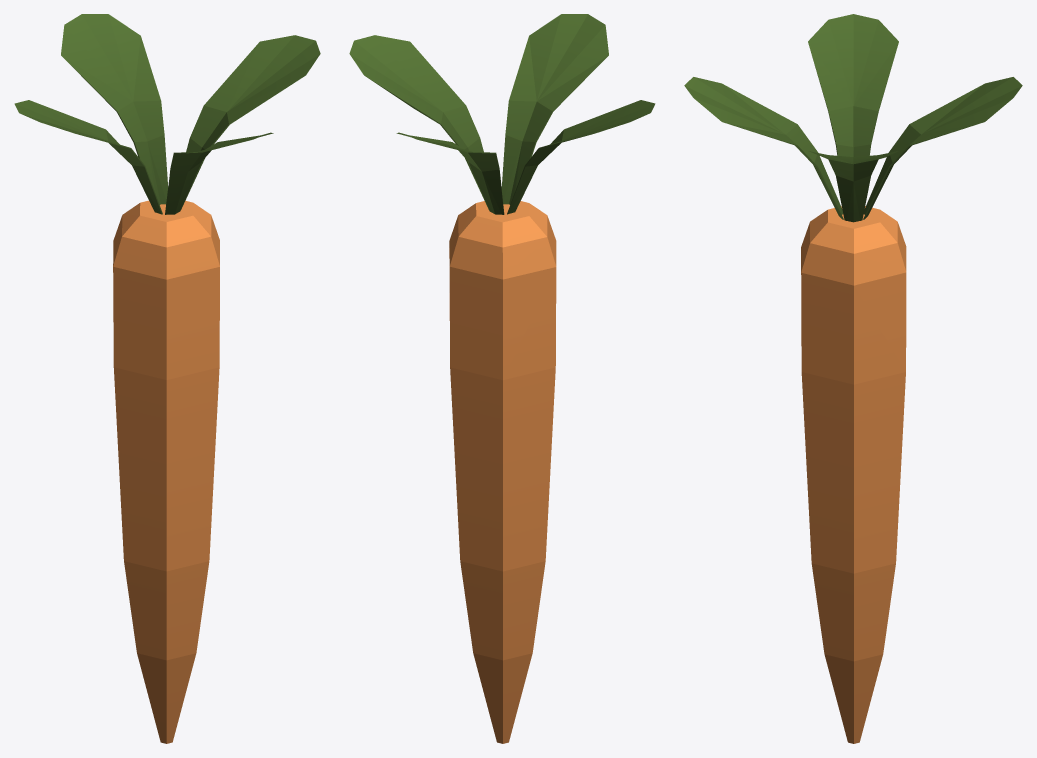
The model's file is Crop_Carrot_01.obj.
3 views of the same model, side by side, from view 1: azimuth 30°, elevation 25°; view 2: azimuth 150°, elevation 25°; view 3: azimuth 270°, elevation 25° (orthographic).
Visible parts, largest first — view 1: Crop_Carrot_01; view 2: Crop_Carrot_01; view 3: Crop_Carrot_01.
Boxes of the visible parts, x1=… form: Crop_Carrot_01: x1=14, y1=14, x2=320, y2=743; Crop_Carrot_01: x1=349, y1=14, x2=655, y2=743; Crop_Carrot_01: x1=684, y1=14, x2=1022, y2=743.
Bounding box in the file's own units: 0.2646 × 0.5653 × 0.2646.
Materials: 1 (1 with a texture image).
